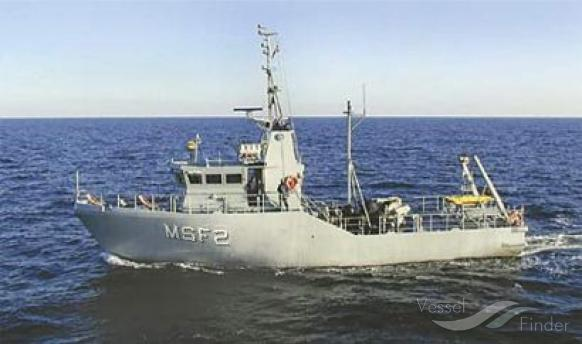OCR: (159, 218, 231, 252)
